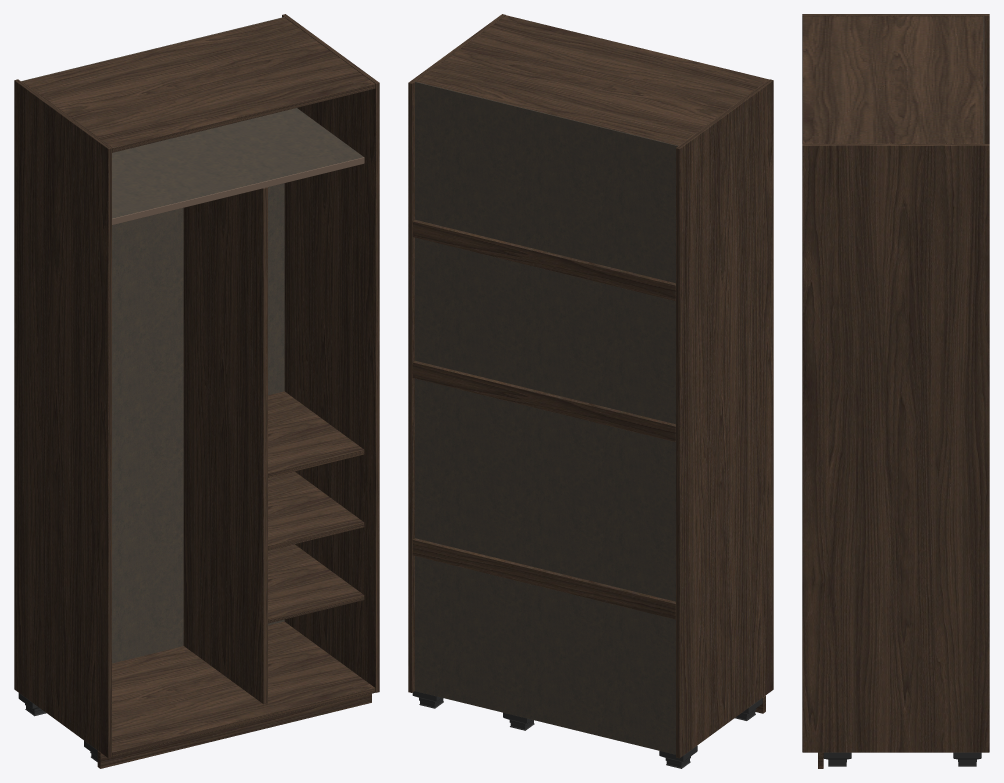
3 renders of one model, left to right at view 1: azimuth 30°, elevation 25°; view 2: azimuth 150°, elevation 25°; view 3: azimuth 270°, elevation 25°, orthographic.
Parts seen in each view (by area): view 1: HK1001081; view 2: HK1001081; view 3: HK1001081.
Boxes of the visible parts, x1,y1,x2,y2 form: HK1001081: (14, 14, 379, 768); HK1001081: (408, 14, 773, 768); HK1001081: (802, 14, 989, 768).
Size of the model in its own units: 1 by 2.2 by 0.6.
7 materials, 6 textured.
